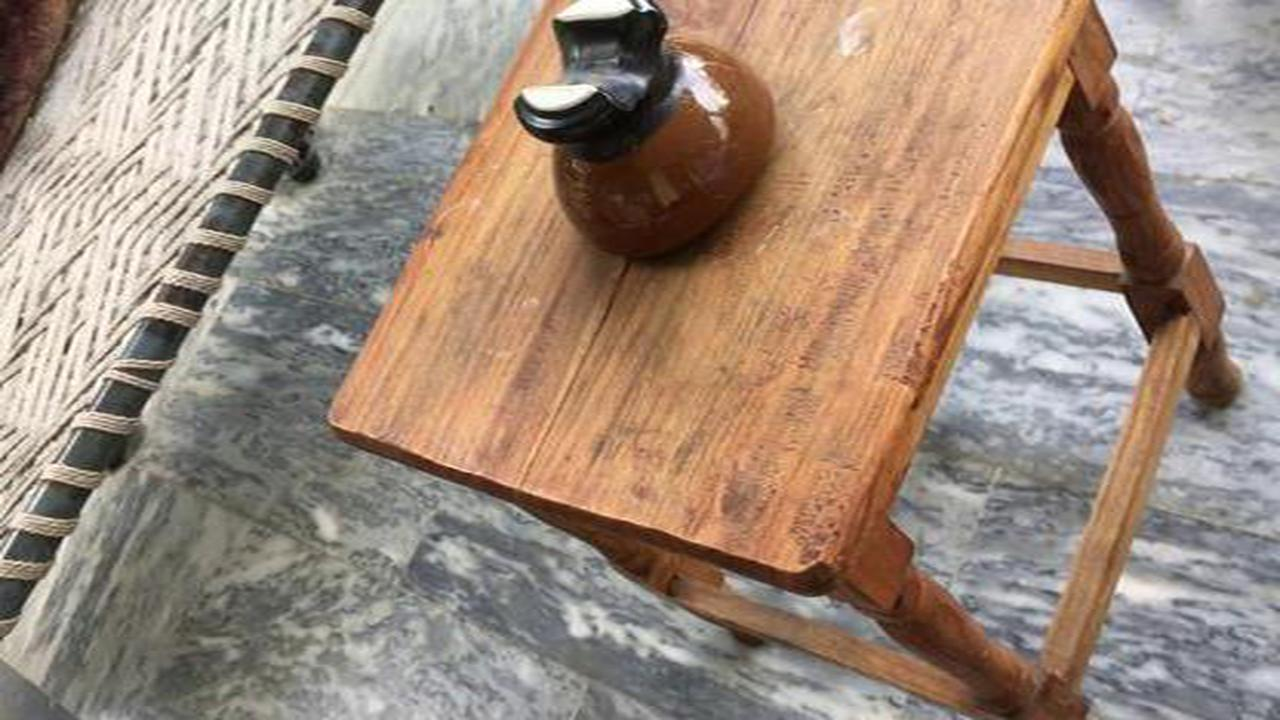insulator_pin: (499, 5, 788, 279)
